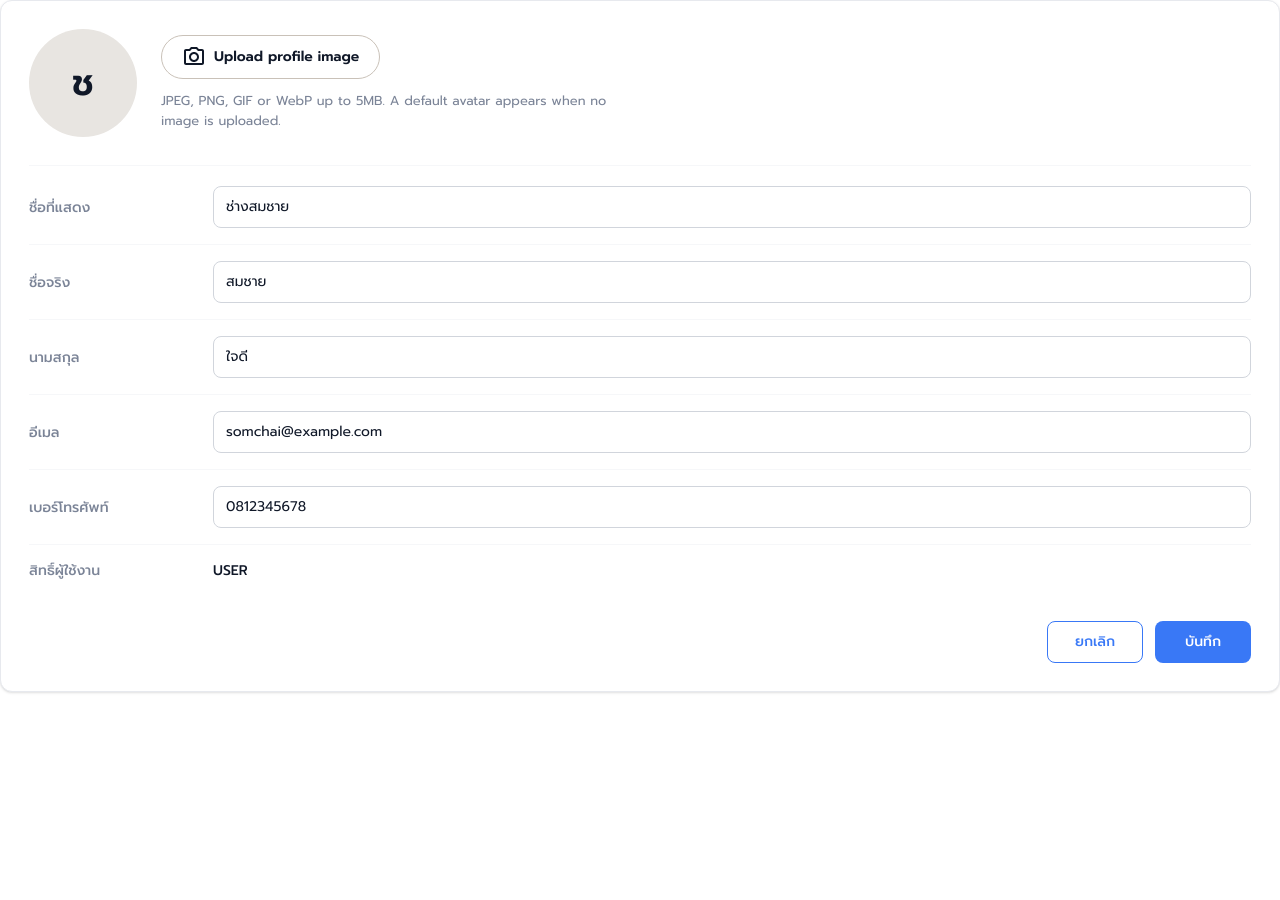
Test: ProfileCard2 › rejects an invalid email before saving
The width and height of the screenshot is (1280, 900).
Step 1. Replace the text in the field labelled "อีเมล" with "user@example" → (732, 432), box [213,411,1251,453]
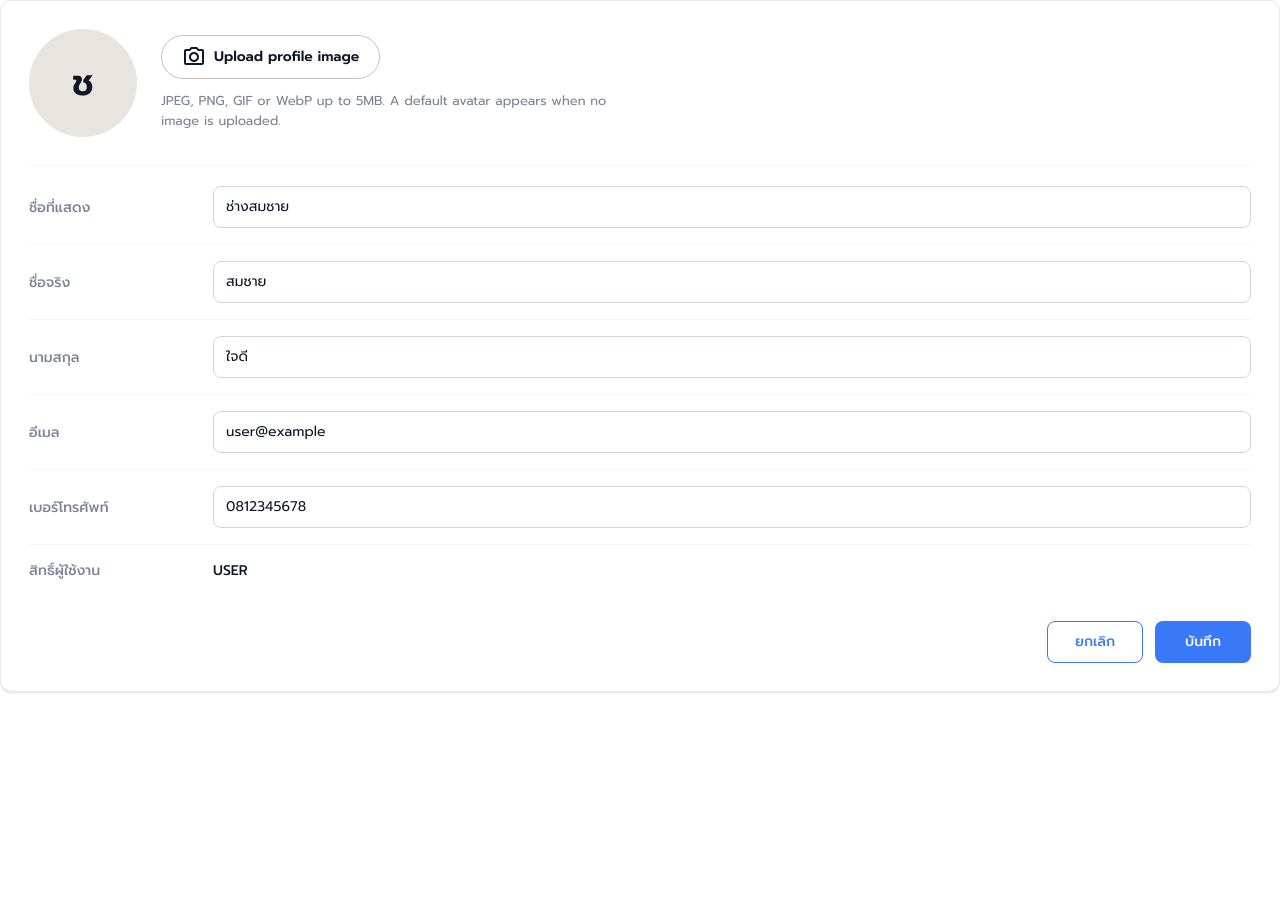
Step 2. Click the button "บันทึก" → (1203, 642), box [1155,621,1251,663]
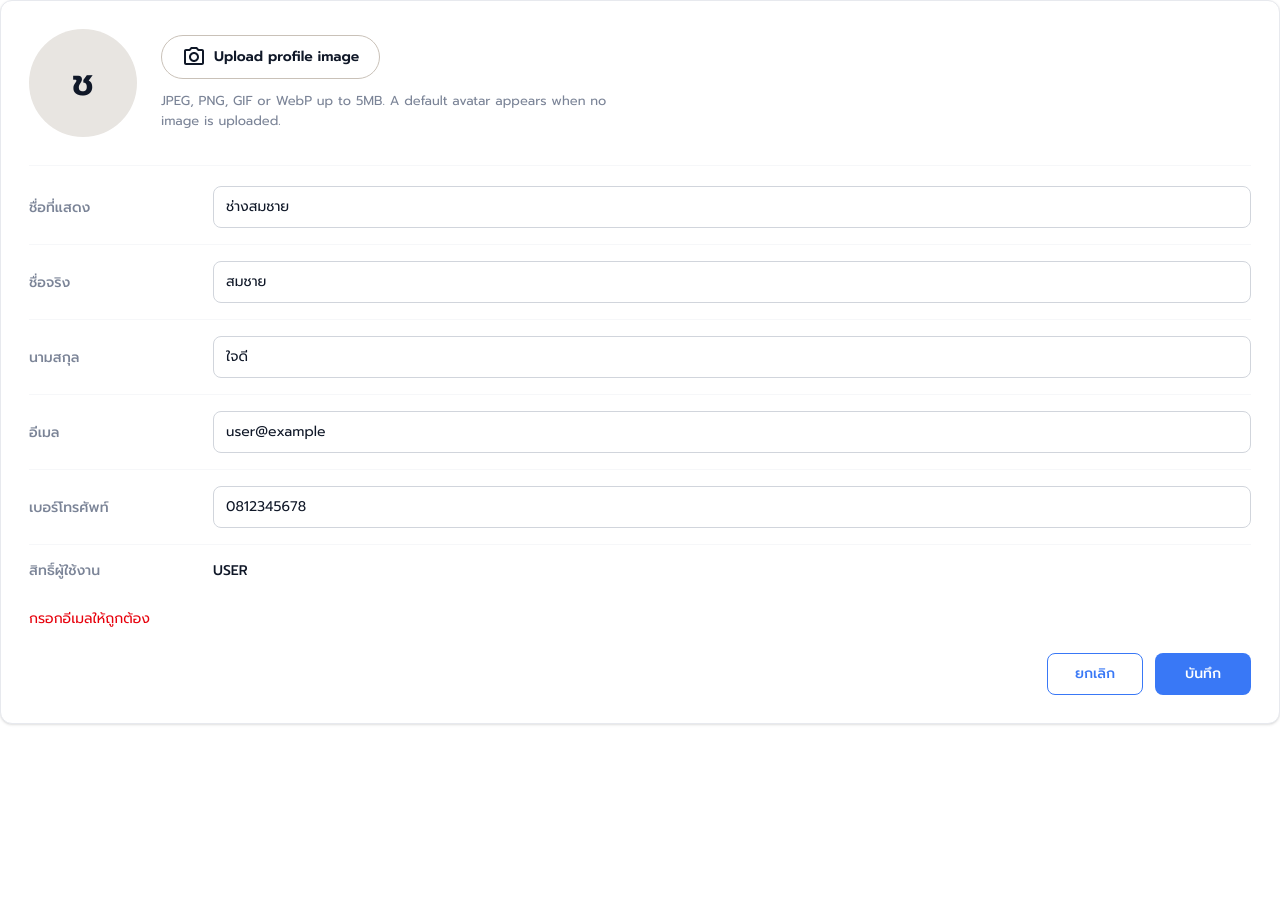
expect the text "กรอกอีเมลให้ถูกต้อง" is shown: met, box [29,608,150,629]
